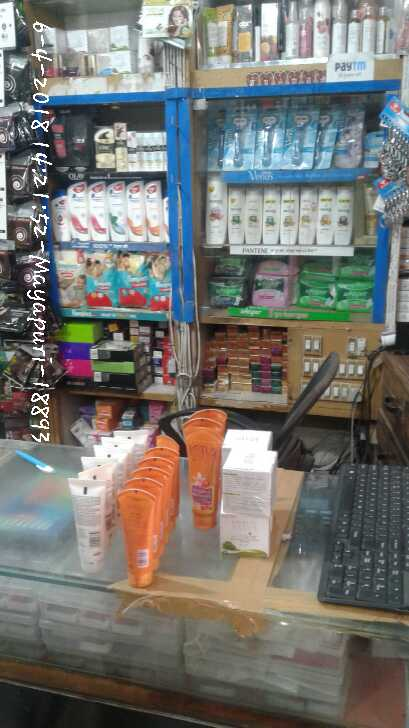venus: (284, 103, 318, 172), (222, 107, 257, 170), (334, 103, 366, 170), (256, 107, 284, 172), (318, 103, 334, 170), (209, 107, 222, 170)
